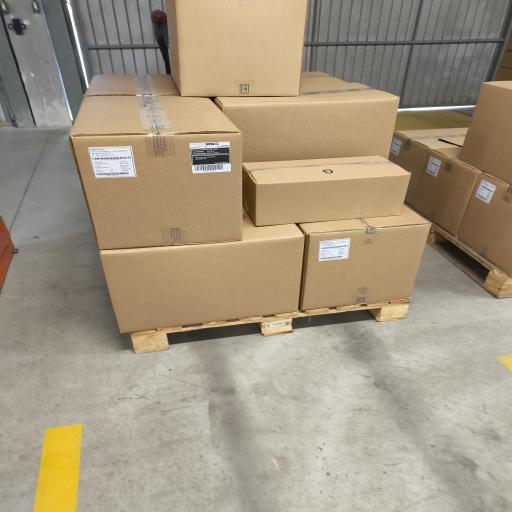pallet: (131, 300, 409, 353), (428, 224, 511, 298)
